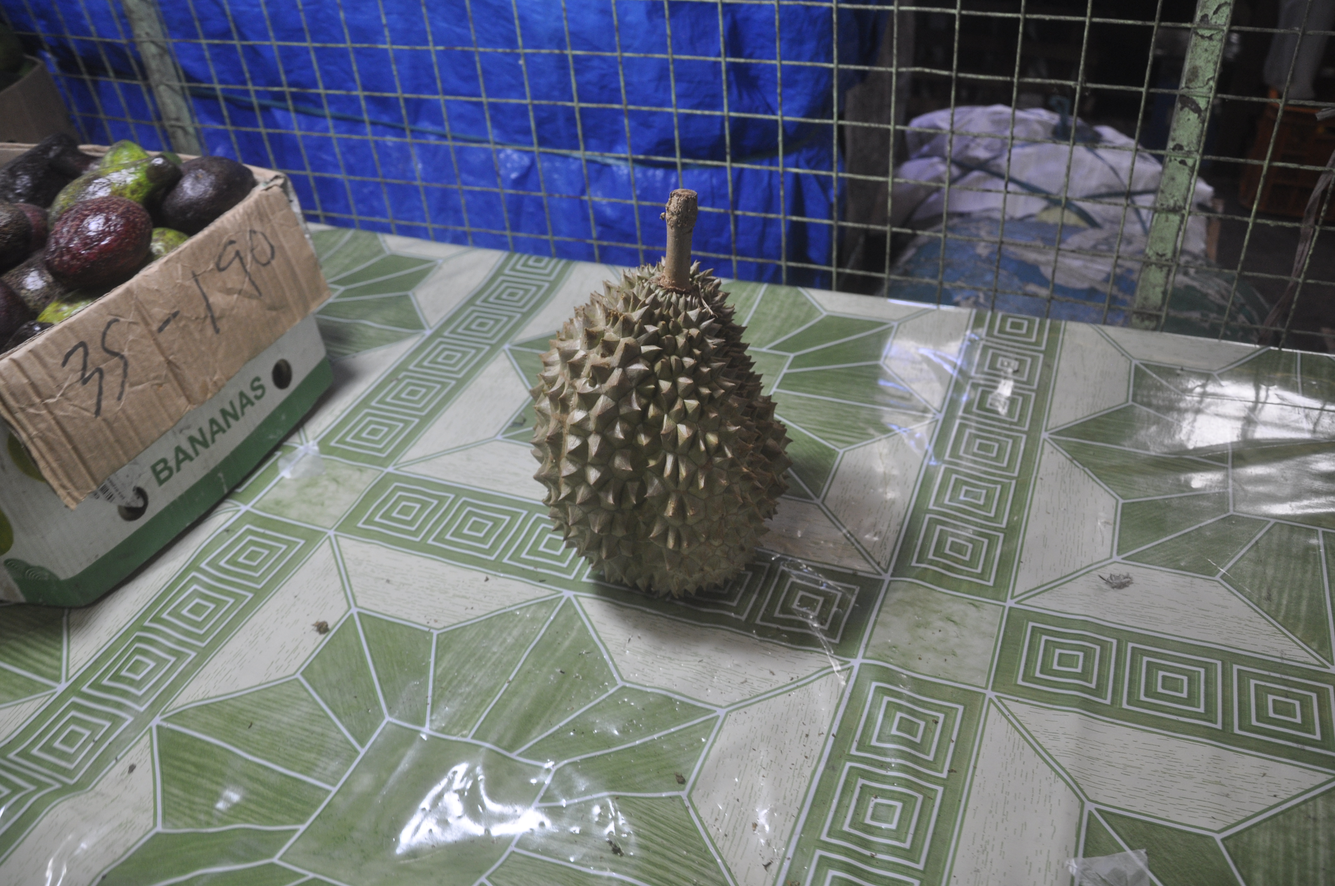mature: (526, 189, 792, 598)
